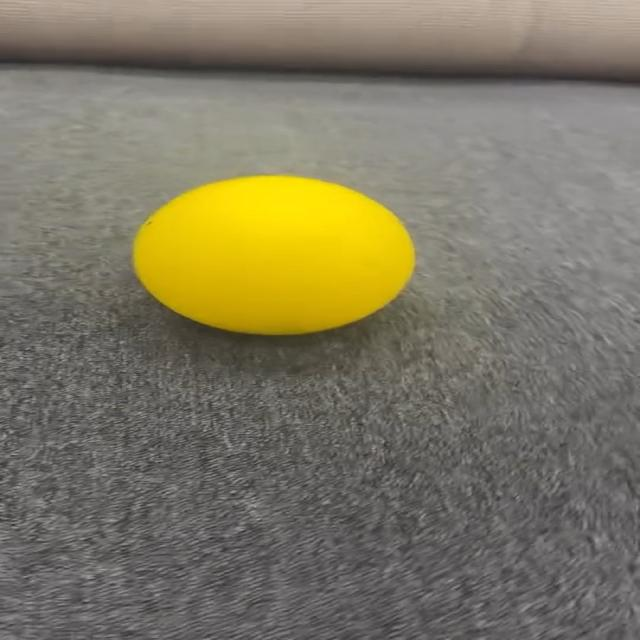Fuels: (134, 176, 412, 332)
